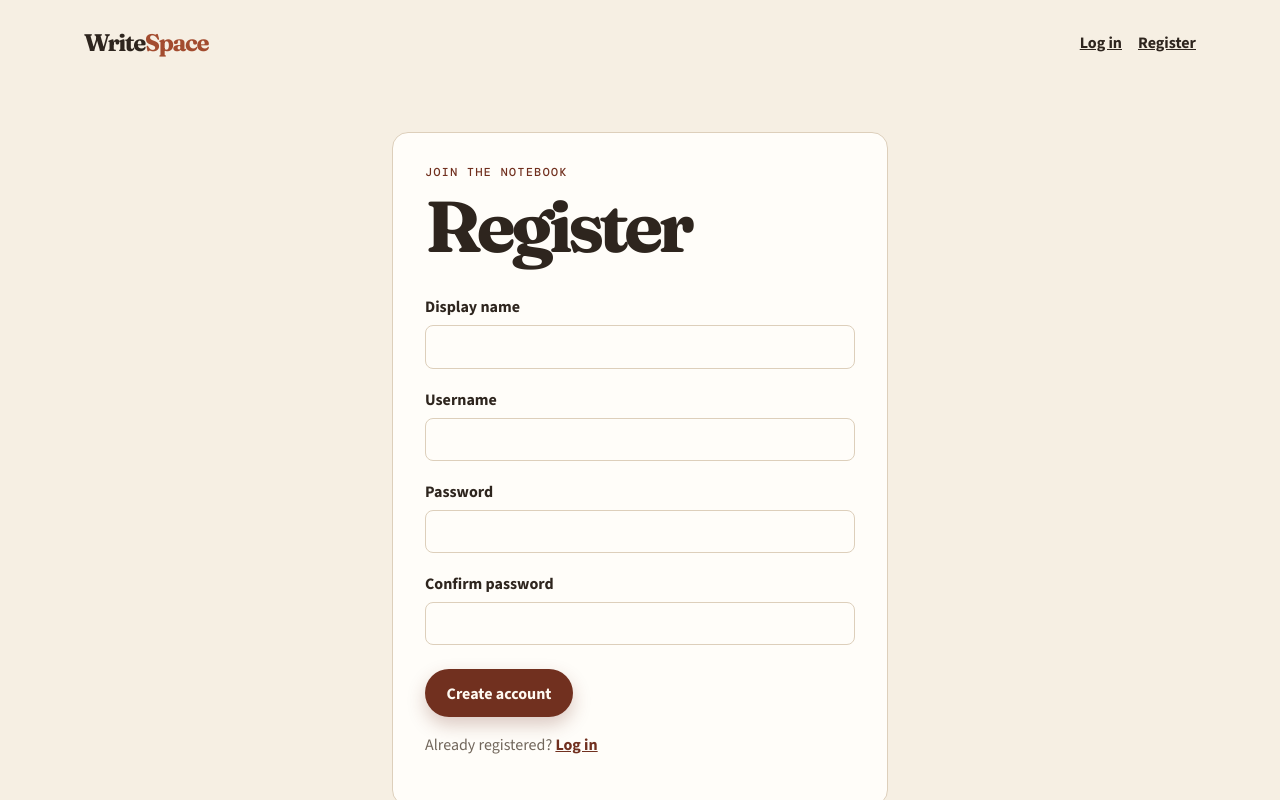
Test: authentication pages › submits registration values and shows request failures inline
Step 1. Type "Reader" into the field labelled "Display name" → [640, 347], box [425,325,855,369]
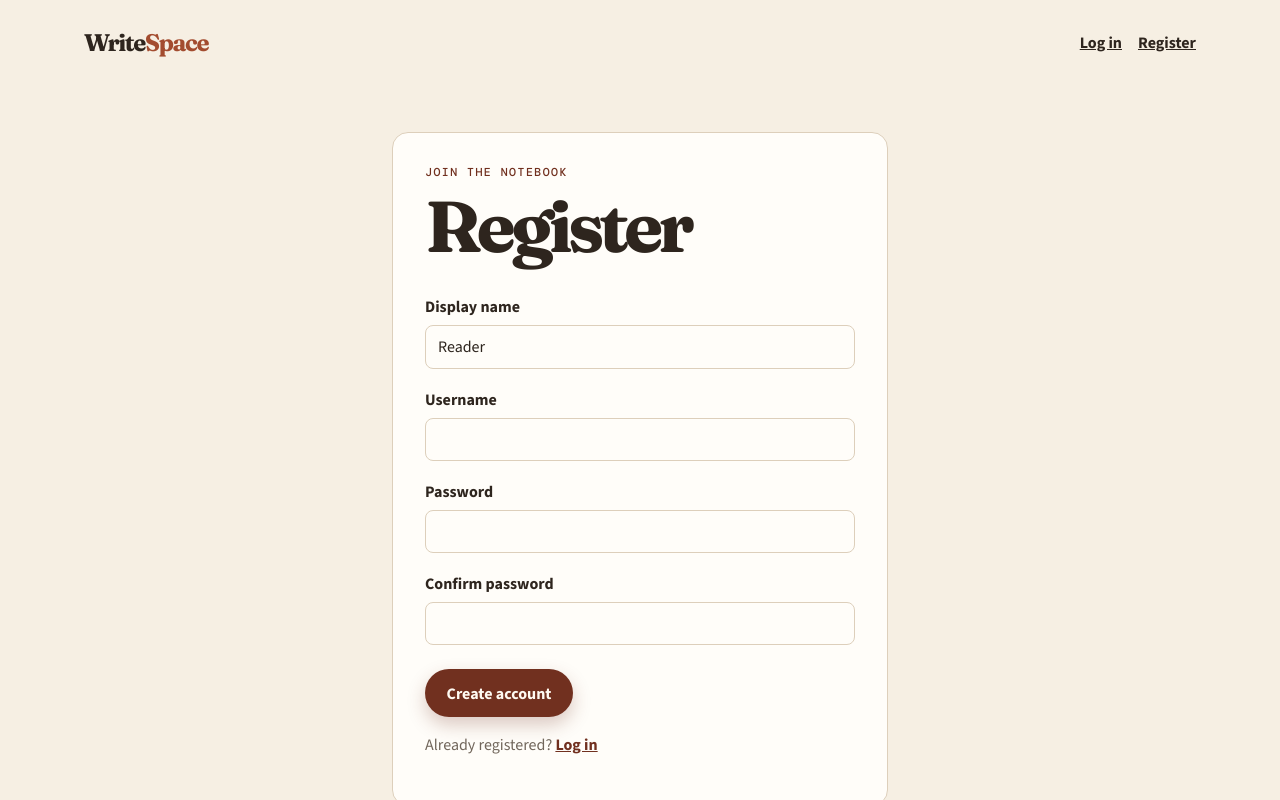
Step 2. Type "reader" into the field labelled "Username" → [640, 439], box [425,418,855,461]
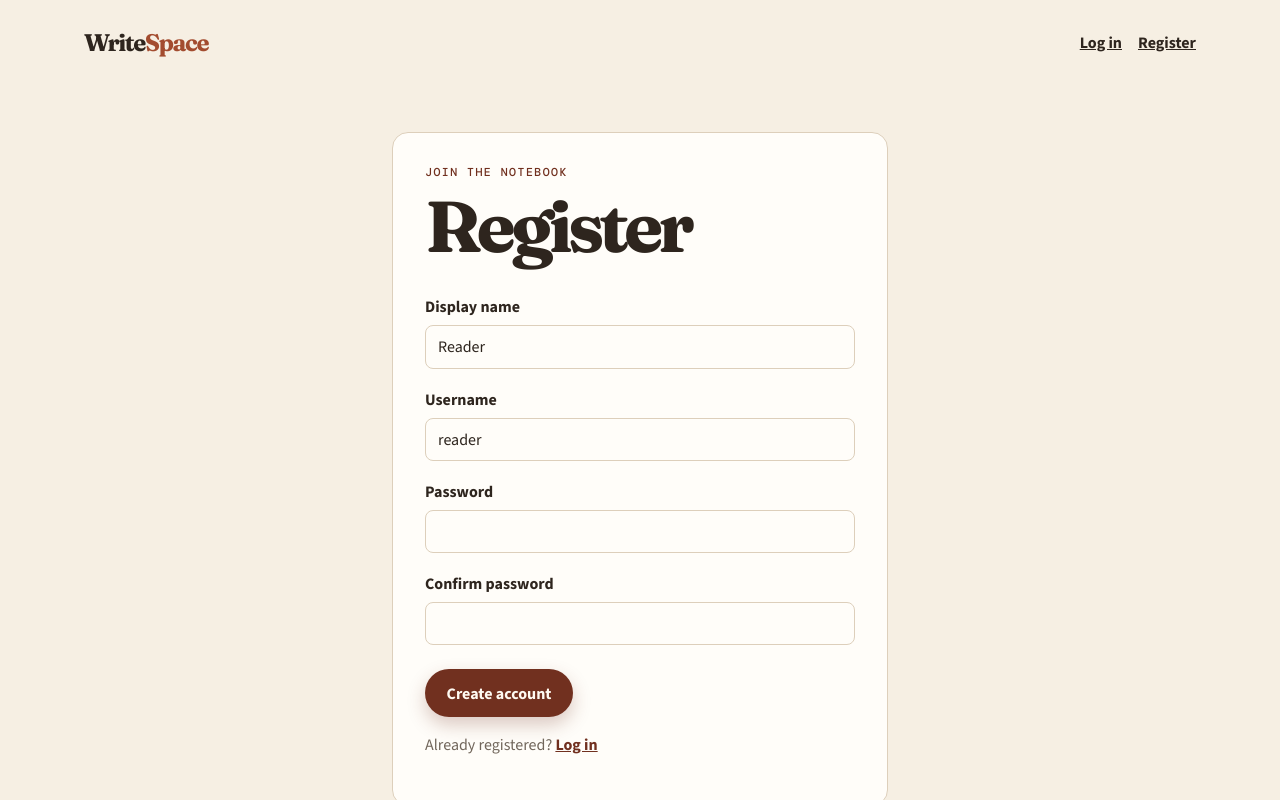
Step 3. Type "reader-pass-123" into the password field labelled "Password" → [640, 531], box [425,510,855,553]
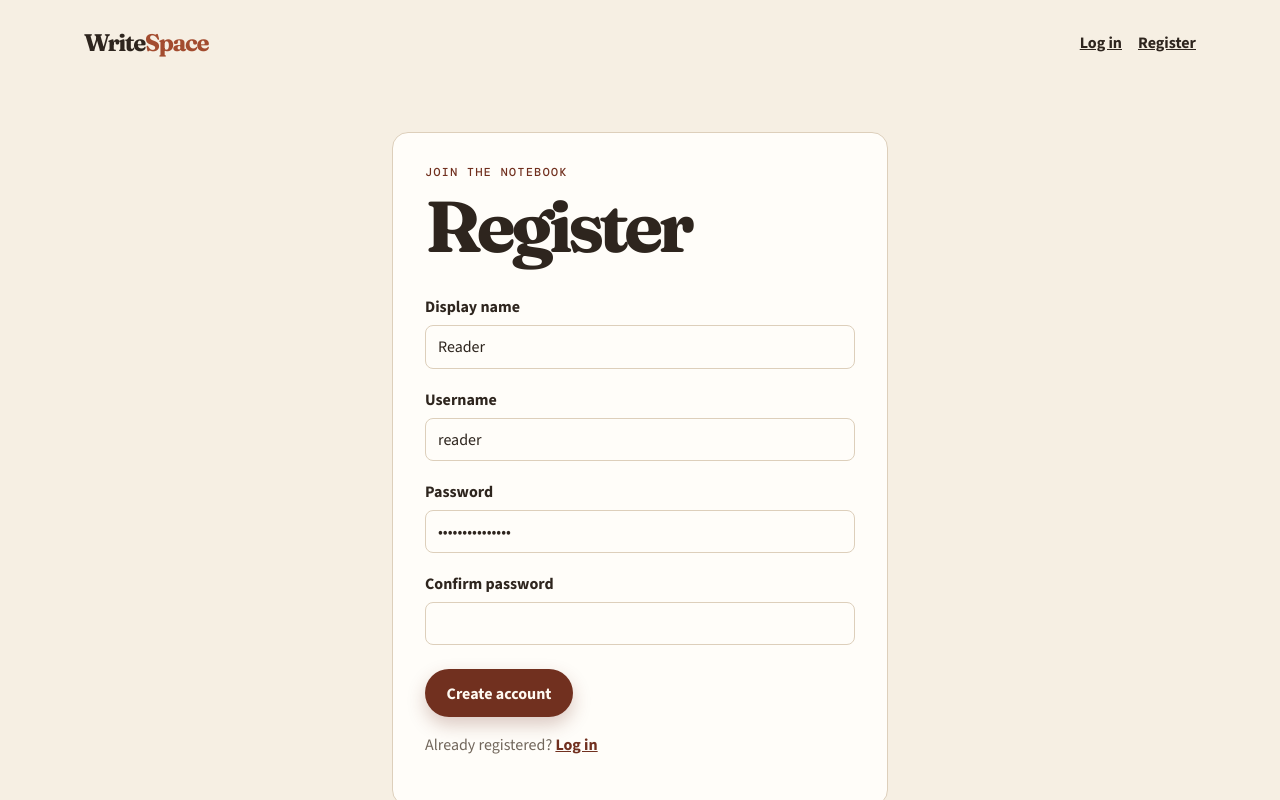
Step 4. Type "reader-pass-123" into the password field labelled "Confirm password" → [640, 624], box [425,602,855,645]
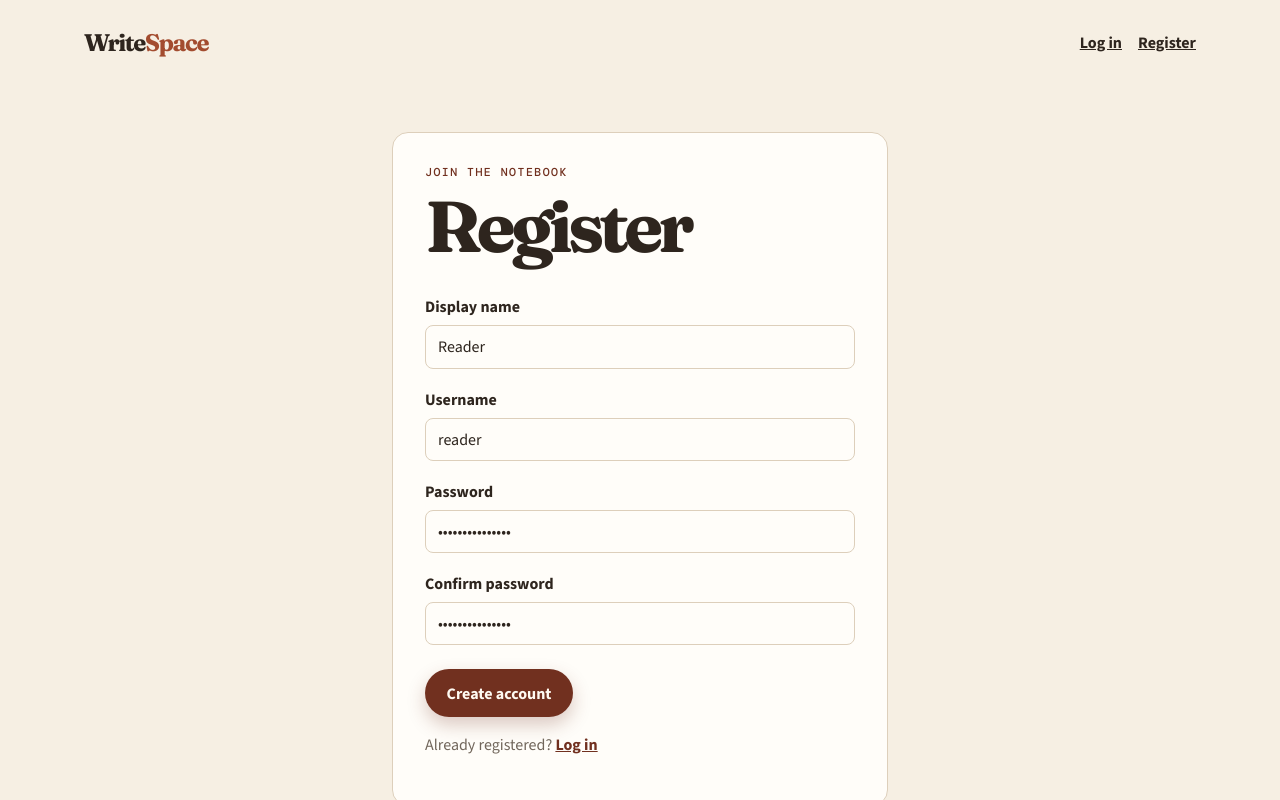
Step 5. Click the button "Create account" → [499, 693], box [425,669,573,717]
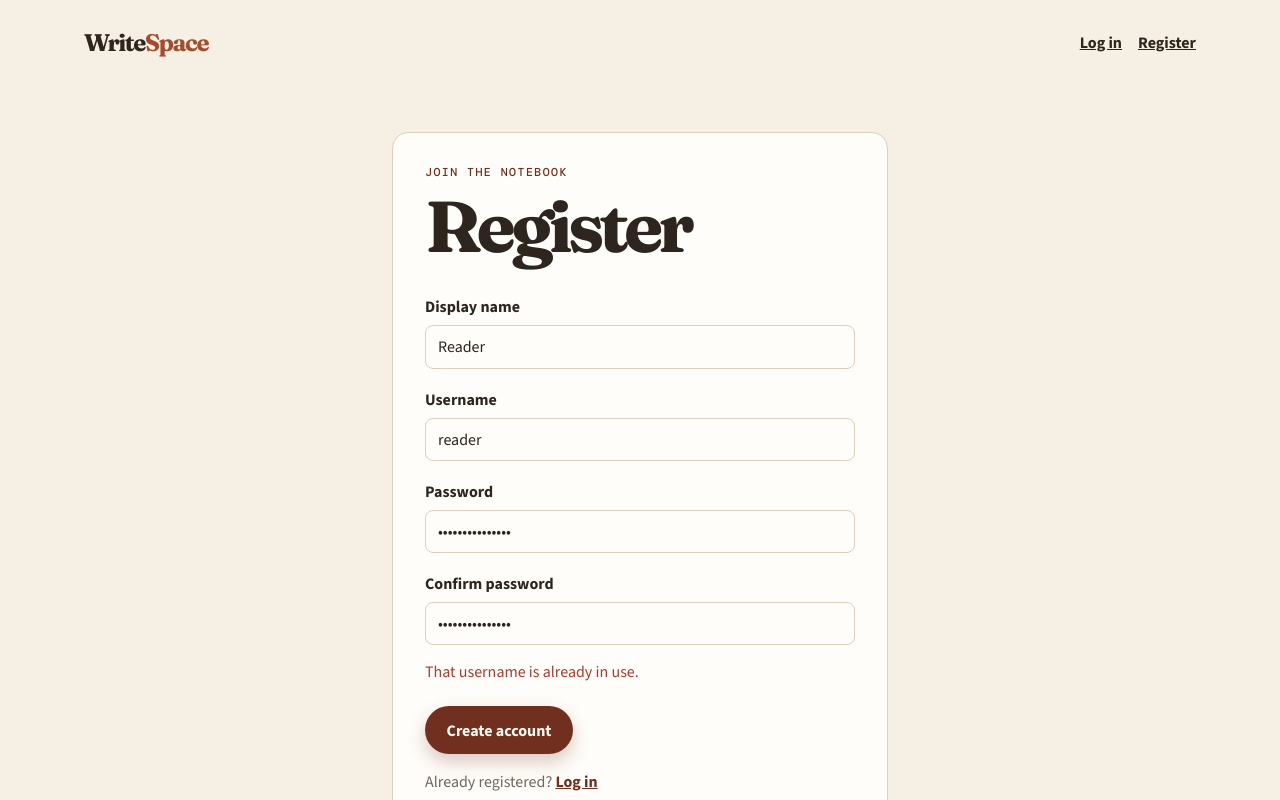
Expected: the message reads "That username is already in use.", [425,661,639,682]
